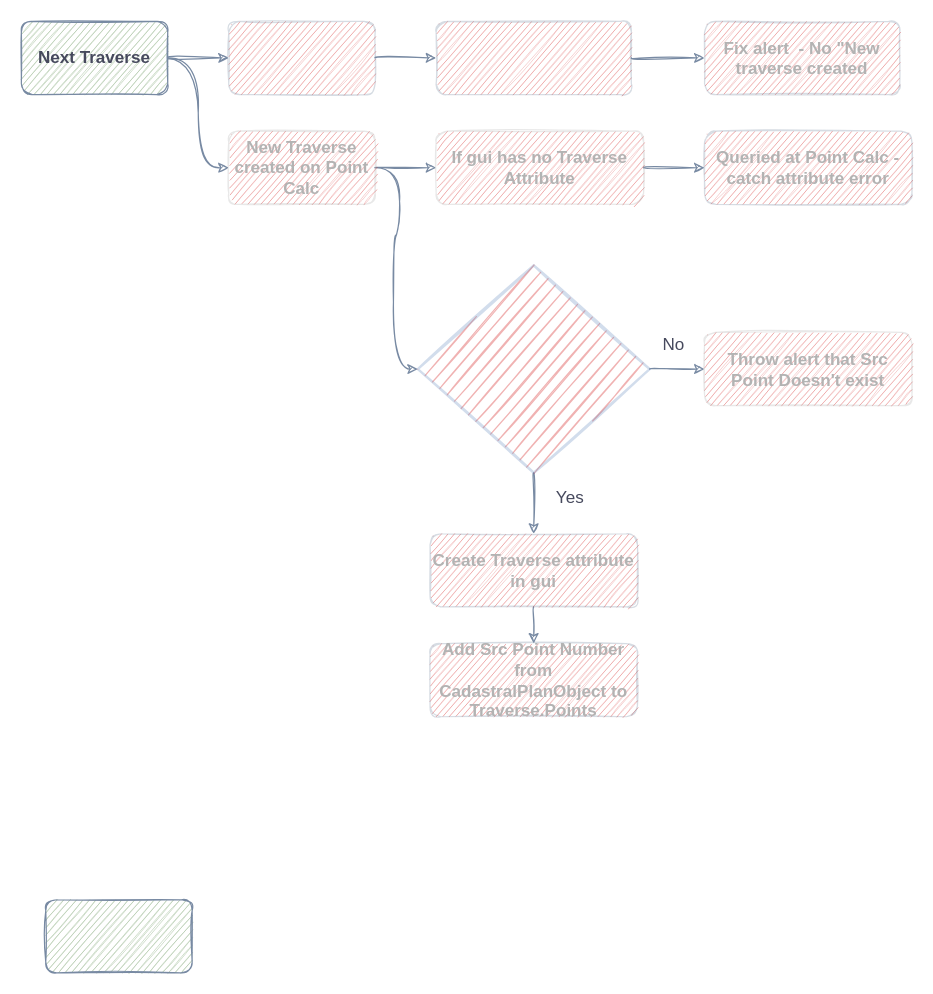
This 933x994 diagram has some shape labels left out. Here are the shapes that lost their labels. From the top down, the centre of each, then its label:
At [301,57]: "No new traverse on commit".
At [533,57]: "Remove Traverse Attribute from gui".
At [533,368]: "CadastralPlanObject has SrcPointNumber?".
At [118,936]: "Traverse Close - Not First Traverse".
